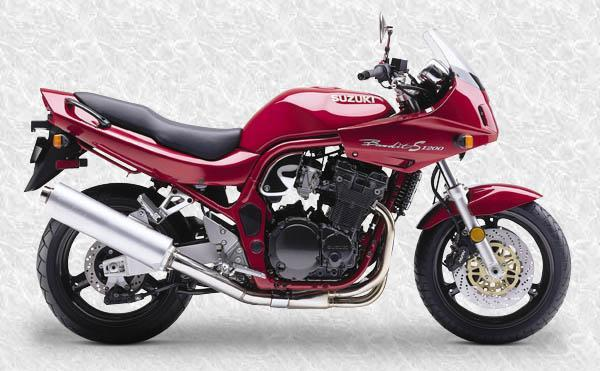motorcycle: (16, 11, 580, 361)
